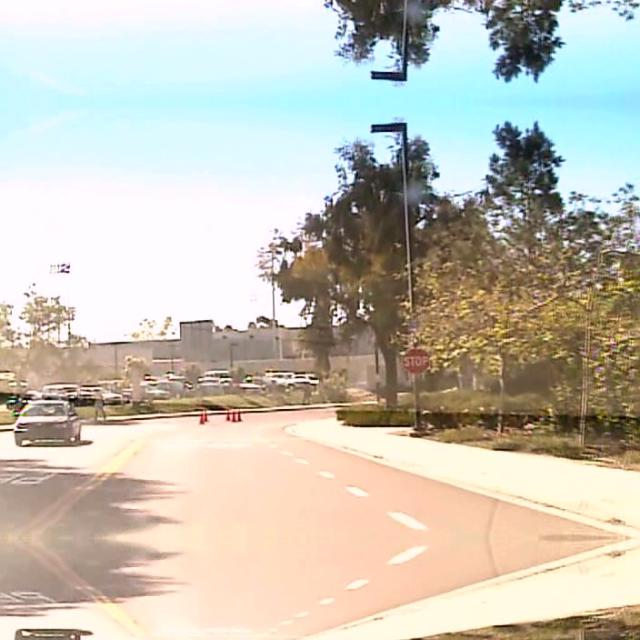stop: (402, 346, 431, 372)
